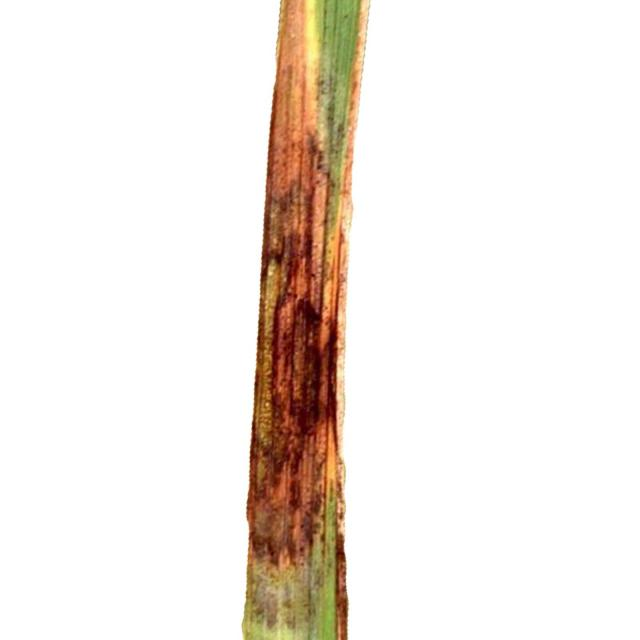Leaf scald: (207, 0, 443, 640)
